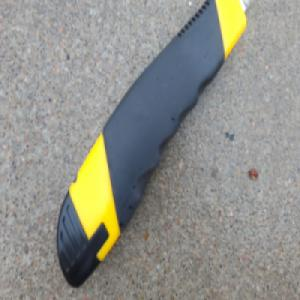Cutter: (55, 0, 253, 289)
